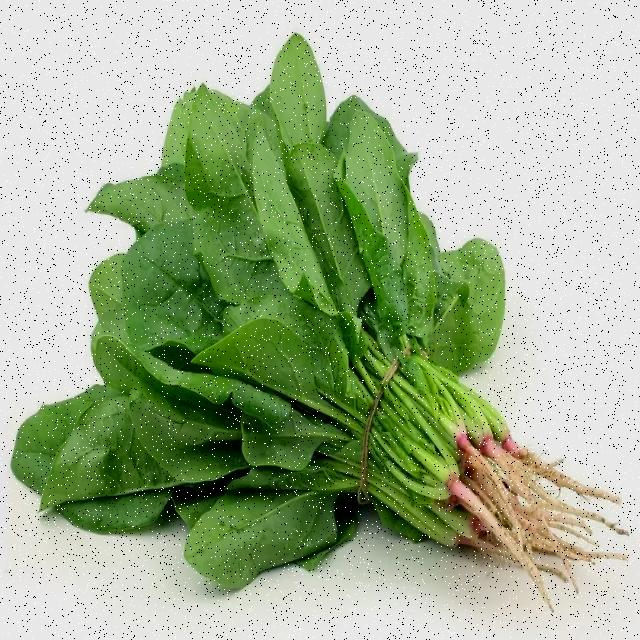Spinach: (28, 27, 607, 640)
